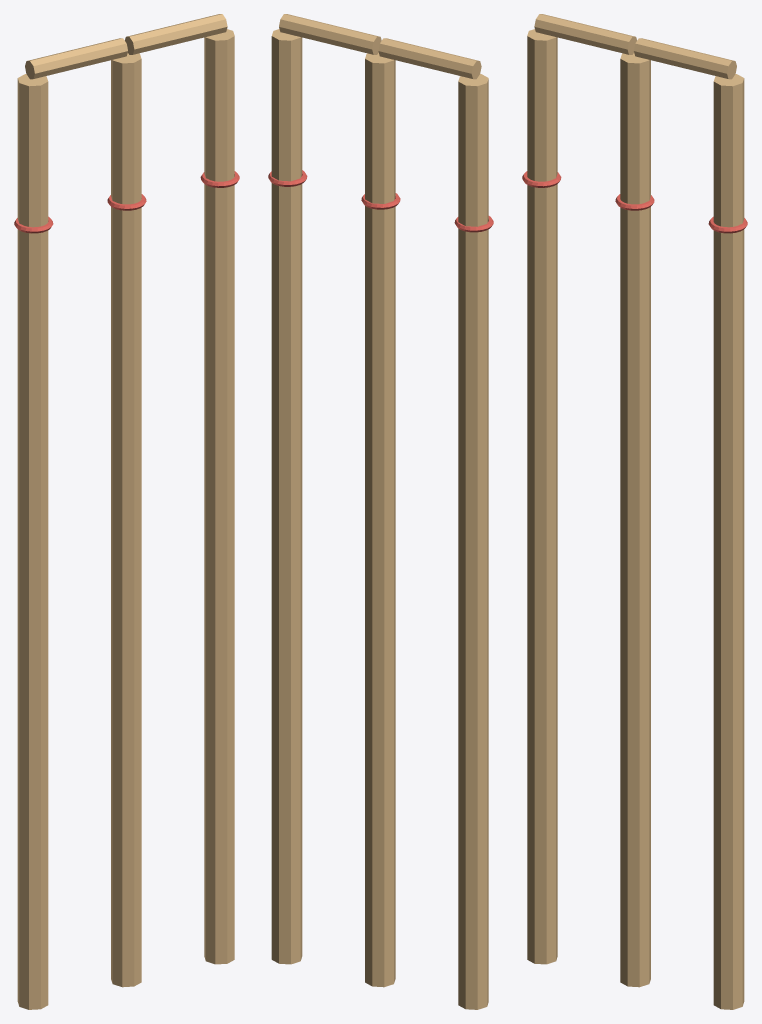
Rendered from breakable-stumps-and-bails.glb.
3 renders of one model, left to right at view 1: azimuth 30°, elevation 25°; view 2: azimuth 150°, elevation 25°; view 3: azimuth 330°, elevation 25°, orthographic.
Visible parts, largest first — view 1: Stump 1 | removable, Stump 3 | removable, Stump 2 | removable, Bail 1 | breakable, Bail 2 | breakable; view 2: Stump 3 | removable, Stump 1 | removable, Stump 2 | removable, Bail 1 | breakable, Bail 2 | breakable; view 3: Stump 3 | removable, Stump 1 | removable, Stump 2 | removable, Bail 2 | breakable, Bail 1 | breakable.
Boxes of the visible parts, x1,y1,x2,y2 form: Stump 1 | removable: (17,74,48,1009); Stump 3 | removable: (204,29,234,964); Stump 2 | removable: (111,53,141,987); Bail 1 | breakable: (25,38,127,79); Bail 2 | breakable: (125,14,227,54); Stump 3 | removable: (271,29,302,964); Stump 1 | removable: (458,74,488,1009); Stump 2 | removable: (365,53,395,987); Bail 1 | breakable: (378,38,481,79); Bail 2 | breakable: (279,14,381,54); Stump 3 | removable: (713,74,744,1009); Stump 1 | removable: (527,29,557,964); Stump 2 | removable: (620,53,650,987); Bail 2 | breakable: (634,38,736,79); Bail 1 | breakable: (534,14,636,54).
Bounding box in the file's own units: 0.1774 × 0.725 × 0.0274.
